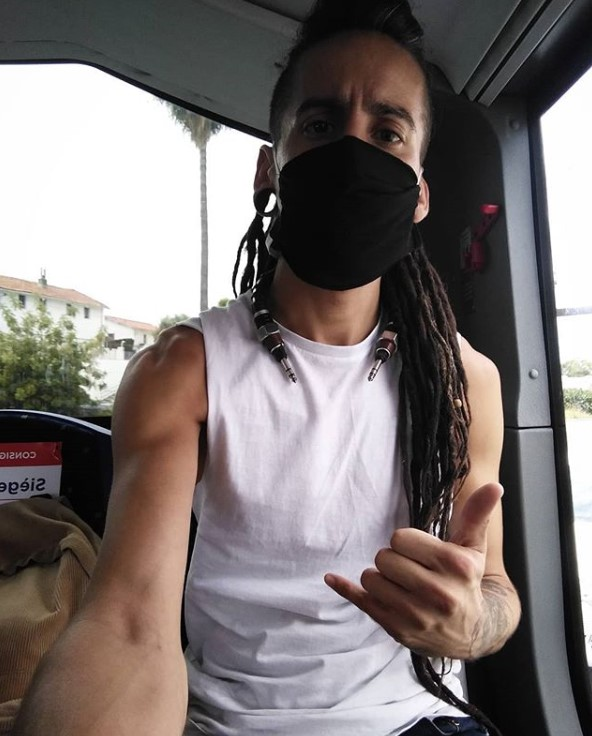face_with_mask: (271, 23, 436, 290)
